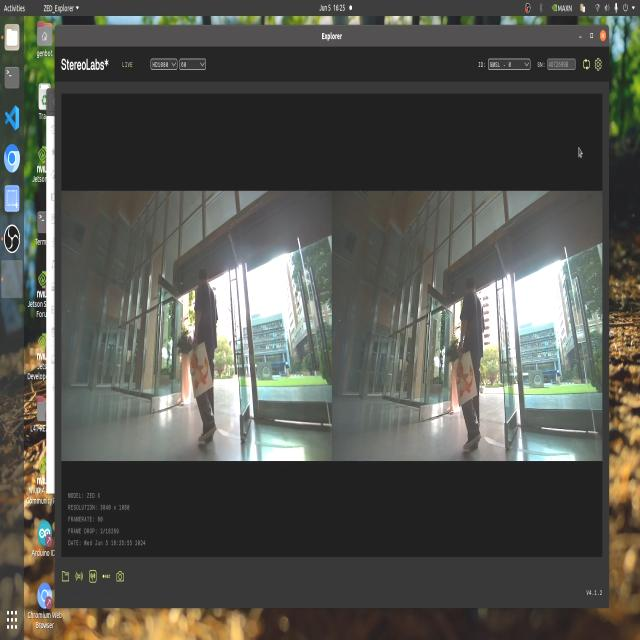red: (453, 363, 483, 405), (186, 348, 210, 396)
